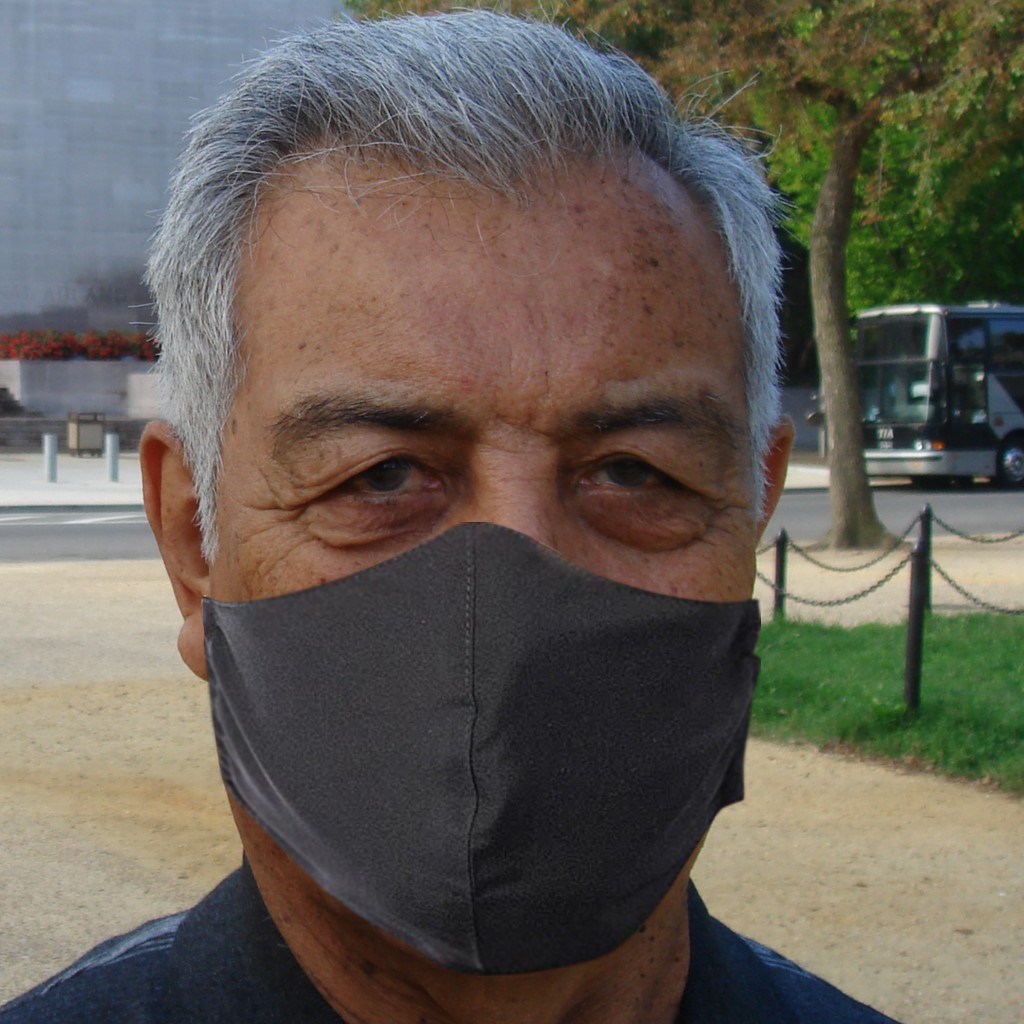con_mascara: (189, 124, 758, 940)
